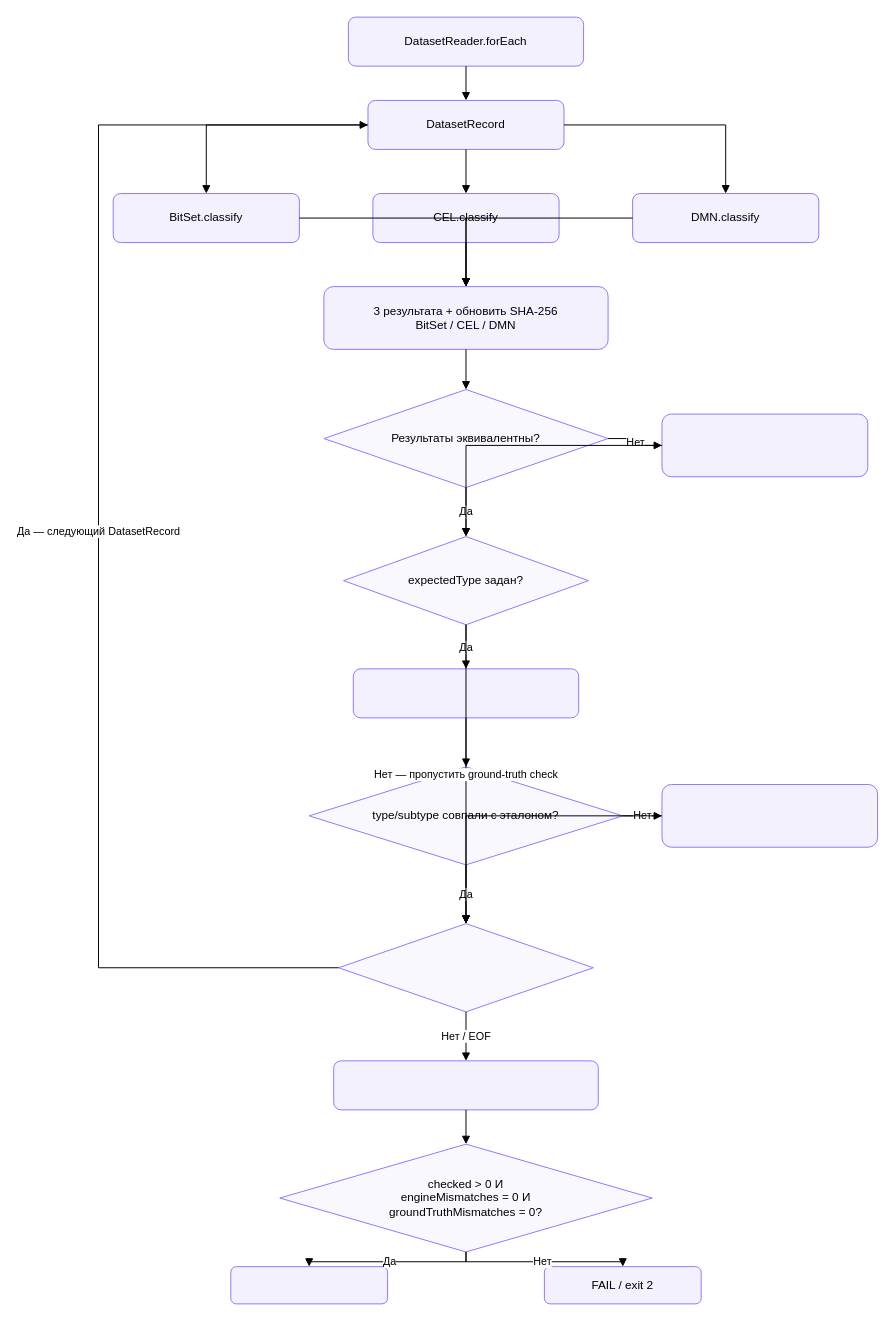
The diagram is 895 pixels wide and 1321 high, and some of its shapes have lost their labels. Each missing label, with the box of its shape:
engineMismatches++ + diagnostic sample: (661, 413, 868, 477)
groundTruthChecked++: (352, 668, 579, 718)
groundTruthMismatches++ + diagnostic sample: (661, 784, 878, 847)
PASS / exit 0: (230, 1266, 388, 1304)
Есть следующая запись?: (338, 923, 593, 1012)
Сформировать VerificationReport: (333, 1060, 598, 1110)
